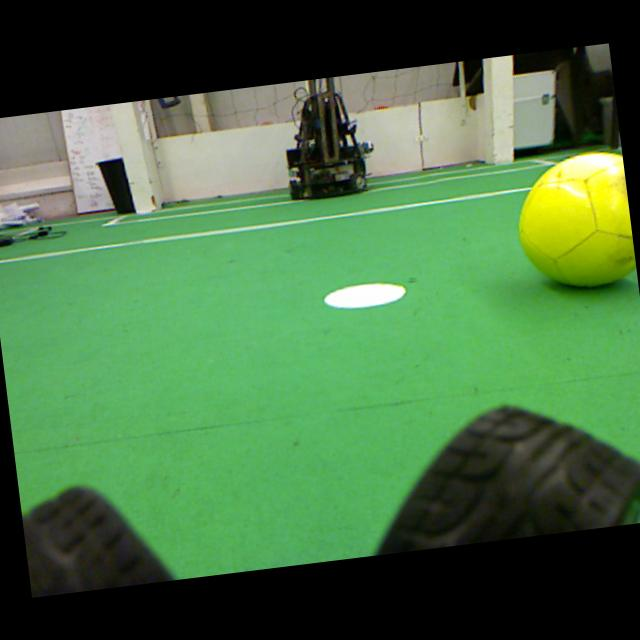ball: (518, 153, 635, 285)
goal: (110, 101, 156, 214), (492, 55, 513, 165)
robot: (285, 77, 373, 200)
